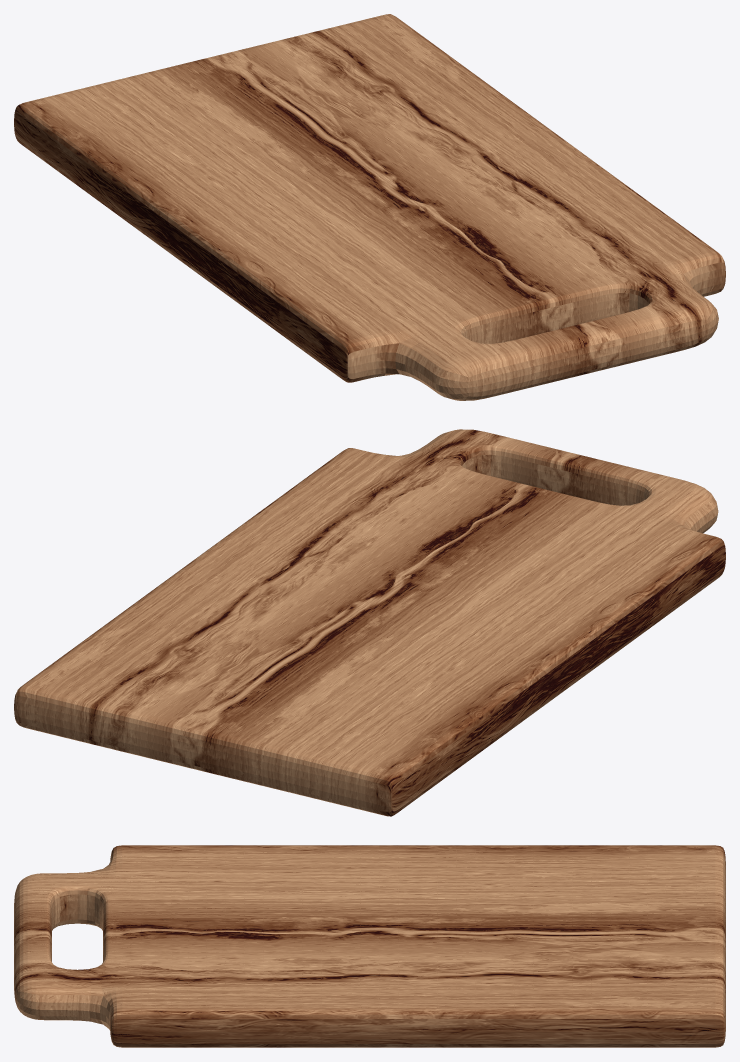
File: choppingBoard.fbx
The picture shows the model from 3 angles, top to bottom: view 1: azimuth 30°, elevation 25°; view 2: azimuth 150°, elevation 25°; view 3: azimuth 270°, elevation 25°; orthographic projection. The views are drawn at different scales.
Visible parts, largest first — view 1: Plane; view 2: Plane; view 3: Plane.
Boxes of the visible parts, box(x1,y1,x2,y2) form: Plane: box(14, 14, 725, 400); Plane: box(14, 429, 725, 816); Plane: box(14, 845, 725, 1047).
Bounding box in the file's own units: 200 × 20.5 × 352.
